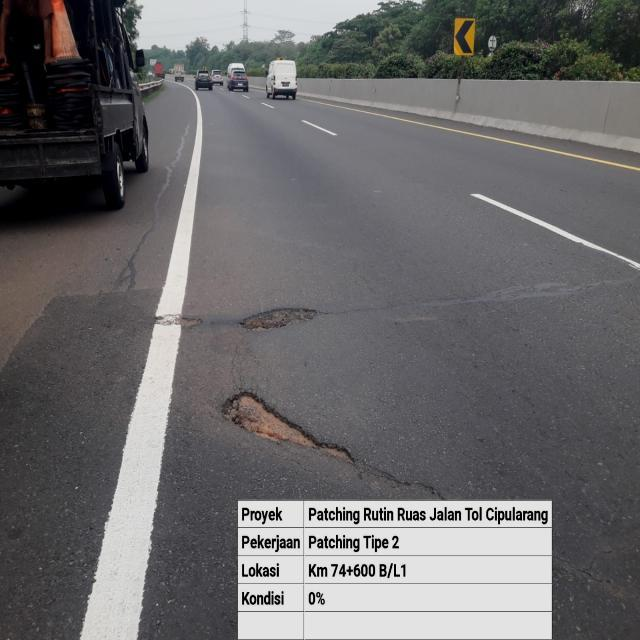Buraco: (218, 389, 358, 468), (236, 306, 322, 335), (171, 315, 205, 332)
